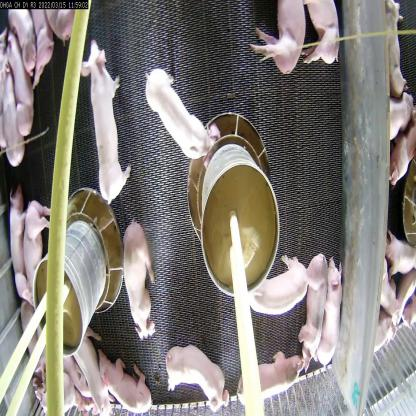Pig: (143, 61, 221, 164), (80, 50, 128, 195), (115, 213, 161, 351), (163, 336, 229, 415), (250, 0, 310, 78), (0, 51, 34, 181), (248, 257, 310, 326), (17, 193, 58, 285), (5, 194, 35, 318), (9, 34, 36, 143), (238, 354, 299, 402), (326, 258, 350, 376), (94, 356, 144, 410), (73, 338, 109, 412), (305, 0, 342, 68), (307, 247, 327, 370)
